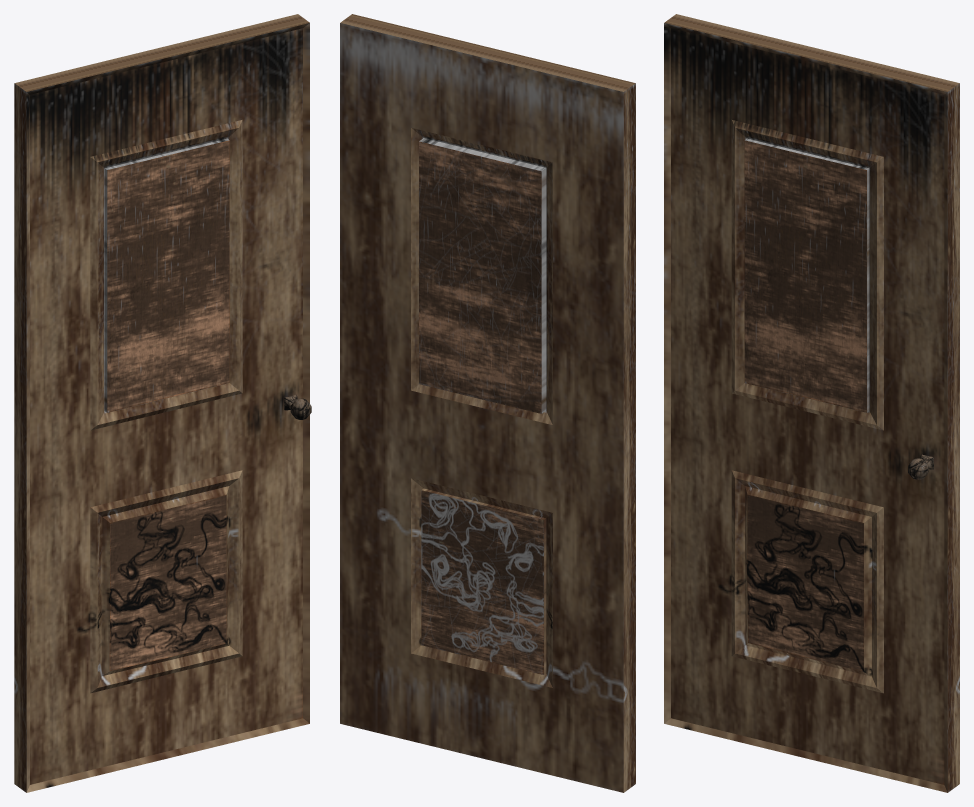
Rendered from door.glb.
3 renders of one model, left to right at view 1: azimuth 30°, elevation 25°; view 2: azimuth 150°, elevation 25°; view 3: azimuth 330°, elevation 25°, orthographic.
Bounding box in the file's own units: 38.32 × 90.51 × 6.77.
Materials: 1 (1 with a texture image).
